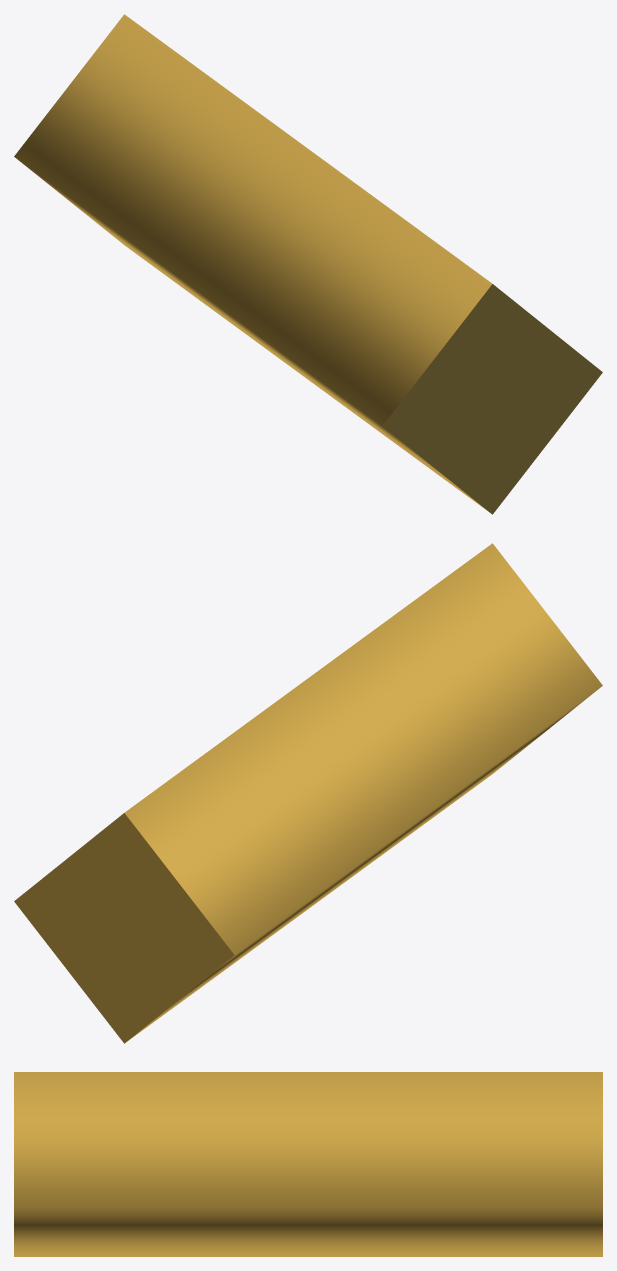
Rendered from FxEmpty357.FBX.
The picture shows the model from 3 angles, top to bottom: view 1: azimuth 30°, elevation 25°; view 2: azimuth 150°, elevation 25°; view 3: azimuth 270°, elevation 25°; orthographic projection. The views are drawn at different scales.
Visible parts, largest first — view 1: FxEmpty357; view 2: FxEmpty357; view 3: FxEmpty357.
Boxes of the visible parts, box(x1,y1,x2,y2) form: FxEmpty357: box(14, 14, 602, 514); FxEmpty357: box(14, 543, 602, 1043); FxEmpty357: box(14, 1072, 602, 1256).
Size of the model in its own units: 1.55 by 1.55 by 4.48.
